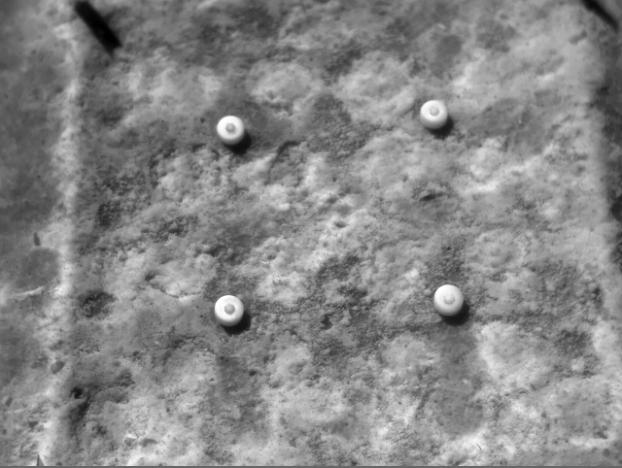landmine: (215, 292, 248, 325), (433, 282, 467, 314), (215, 114, 247, 144), (418, 98, 448, 127)
